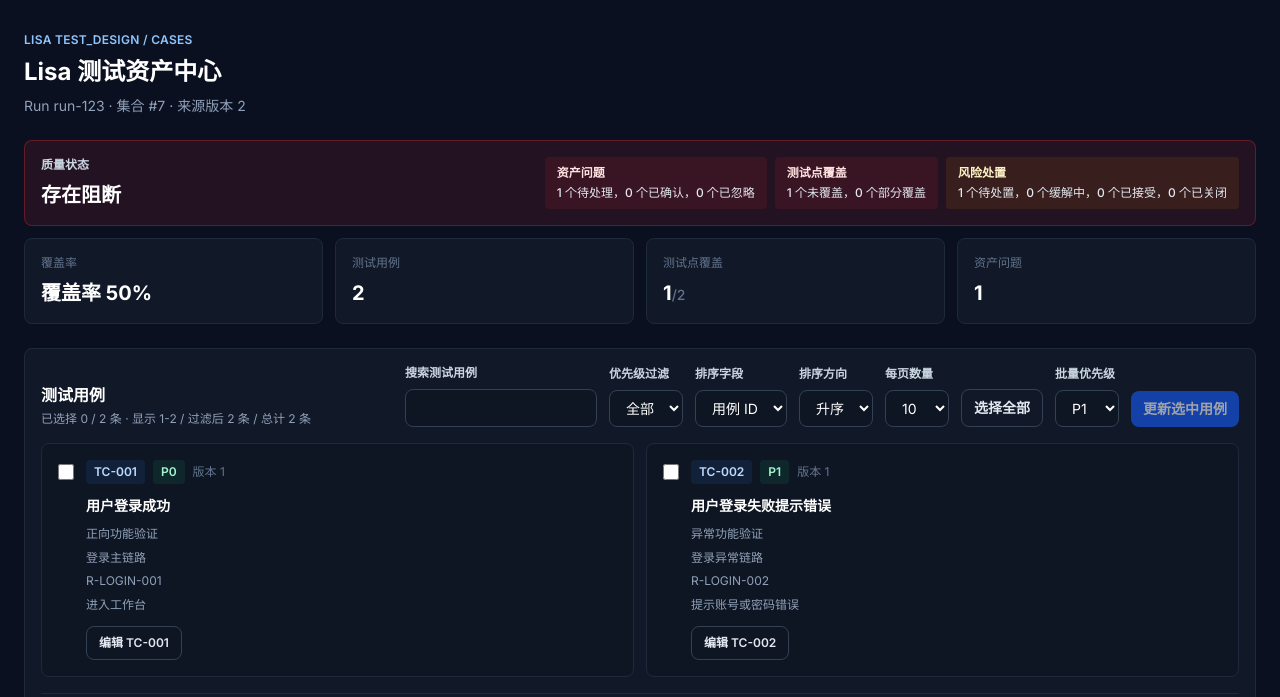
TestAssetsPage › batch updates only selected test asset cases
Check: the heading "用户登录失败提示错误" is shown, box [691,497,831,514]
Click the checkbox named "选择 TC-002" at (671, 472), box [663,464,679,480]
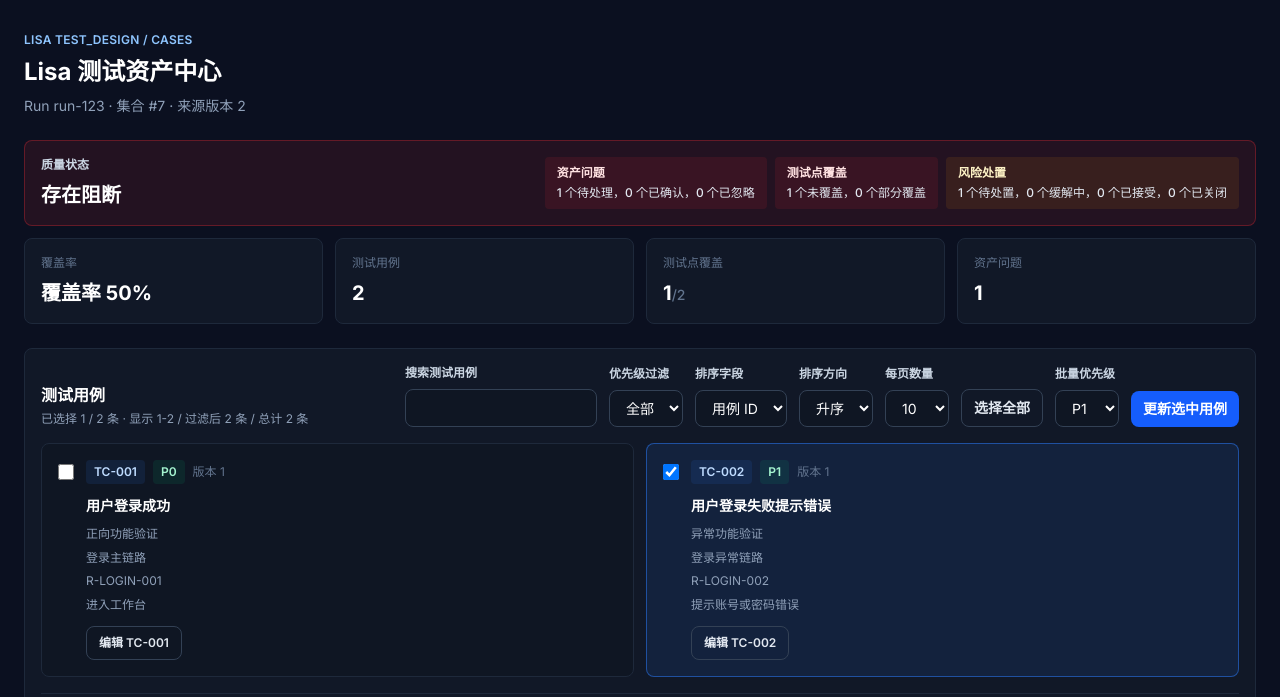
Select "P0" in the dropdown labelled "批量优先级" at (1087, 408), box [1055,390,1119,427]
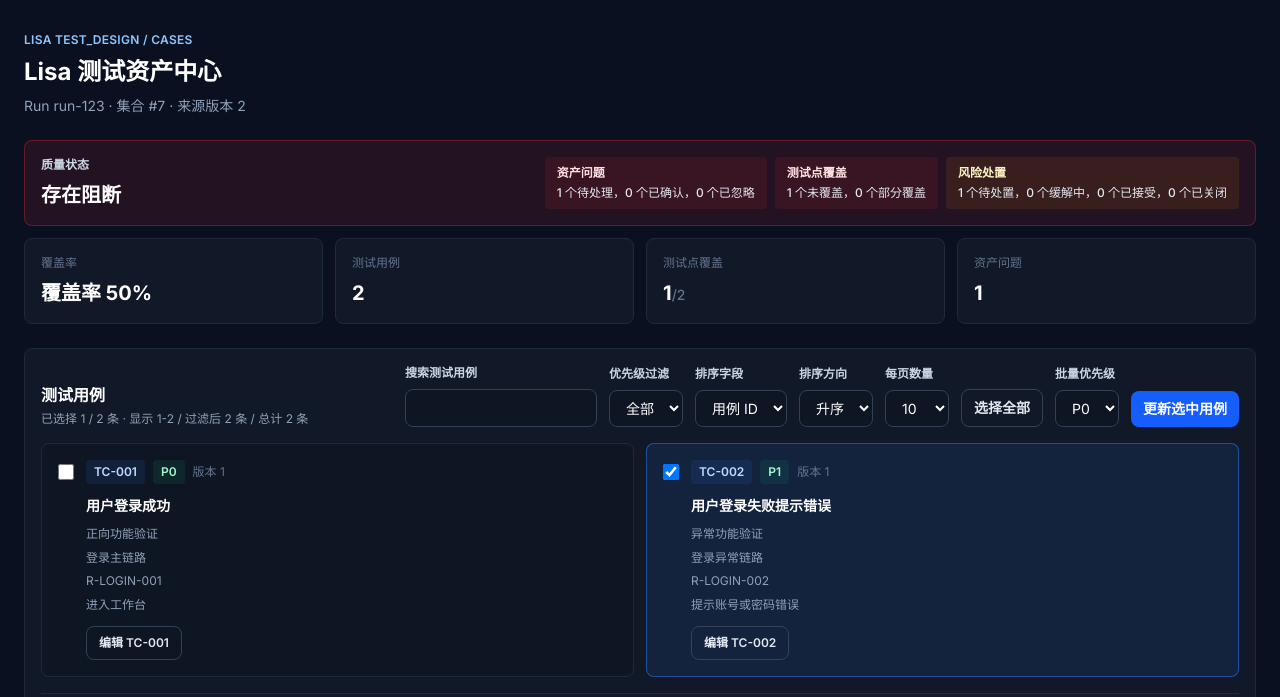
Click the button "更新选中用例" at (1185, 409), box [1131,391,1239,427]
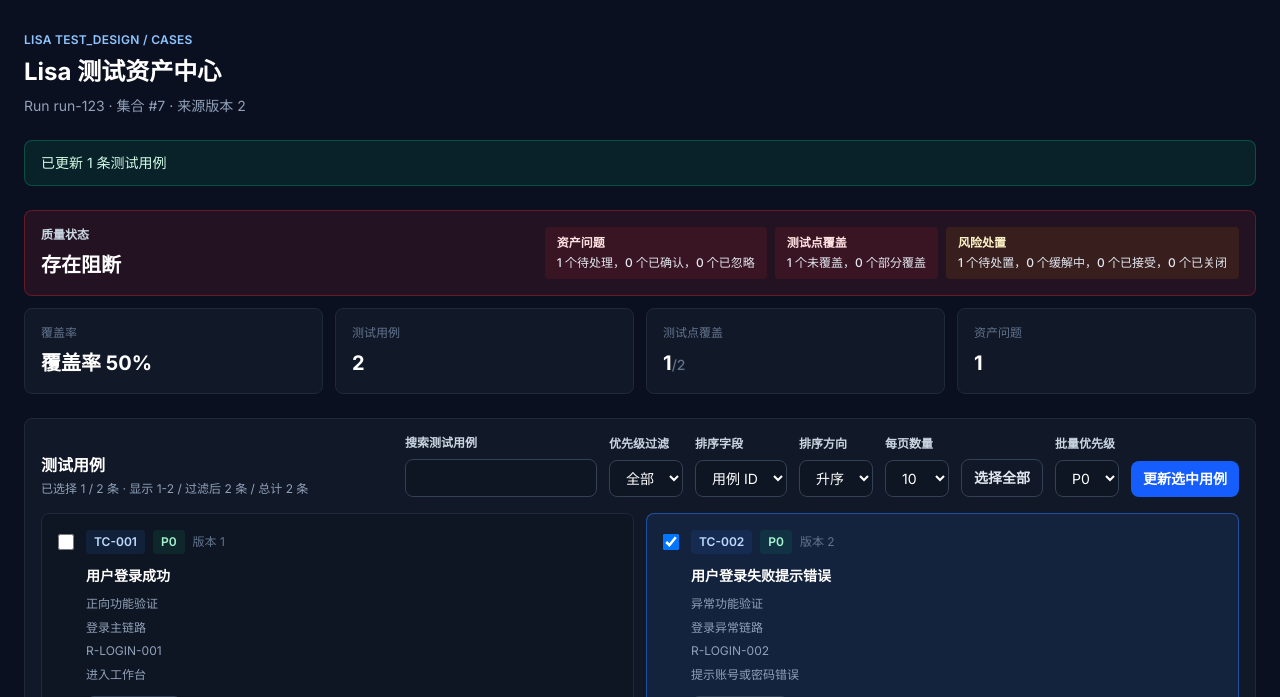
Check: the text "已更新 1 条测试用例" is shown, box [24,140,1256,186]
Check: the 2nd text "P0" is shown, box [760,530,792,554]
Check: the text "版本 2" is shown, box [800,534,835,550]
